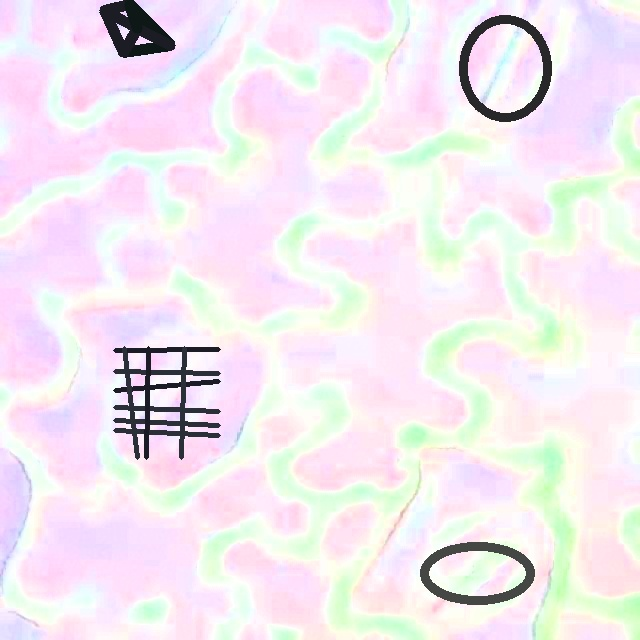open: (113, 346, 220, 459), (458, 15, 552, 122), (419, 541, 536, 606), (100, 0, 174, 56)
